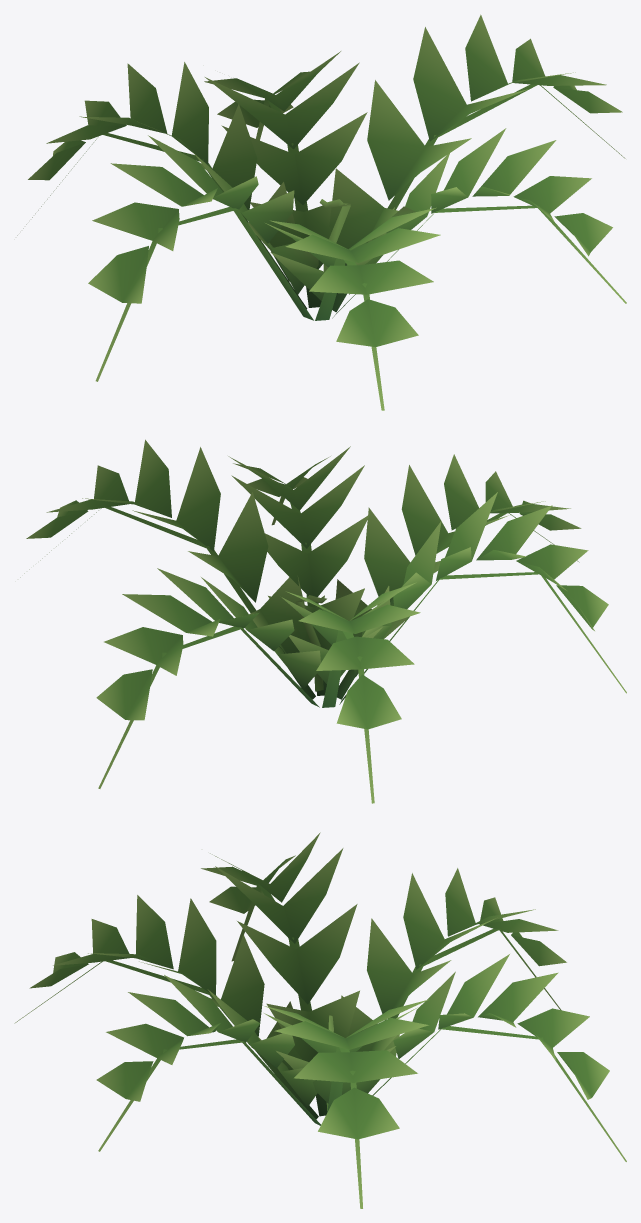
The model's file is deco-fern-v2.glb.
The picture shows the model from 3 angles, top to bottom: view 1: azimuth 30°, elevation 25°; view 2: azimuth 150°, elevation 25°; view 3: azimuth 270°, elevation 25°; orthographic projection. The views are drawn at different scales.
Parts seen in each view (by area): view 1: 0_fern; view 2: 0_fern; view 3: 0_fern.
Part boxes in pixels (left/top/right/bottom): 0_fern: left=17, top=14, right=626, bottom=410; 0_fern: left=20, top=439, right=626, bottom=803; 0_fern: left=14, top=832, right=626, bottom=1208.
Size of the model in its own units: 1.32 by 0.4523 by 1.26.
